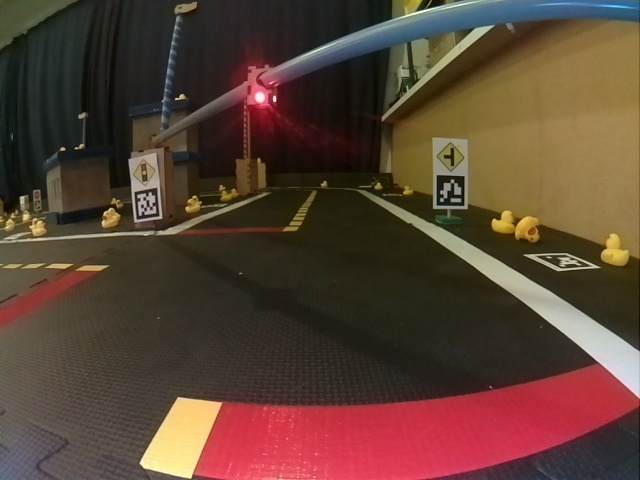Duckie: (601, 234, 630, 266), (517, 216, 540, 241), (492, 211, 513, 232), (102, 211, 115, 227), (32, 221, 45, 236), (185, 199, 198, 213), (5, 220, 14, 230), (403, 186, 412, 194), (374, 183, 383, 191), (221, 191, 227, 200), (321, 181, 327, 189)
Intersection sign: (434, 141, 465, 171)
QR code: (523, 253, 596, 272), (435, 175, 465, 207), (133, 188, 161, 219)
Signal sign: (132, 158, 157, 184)
Traffic light: (247, 66, 275, 107)
